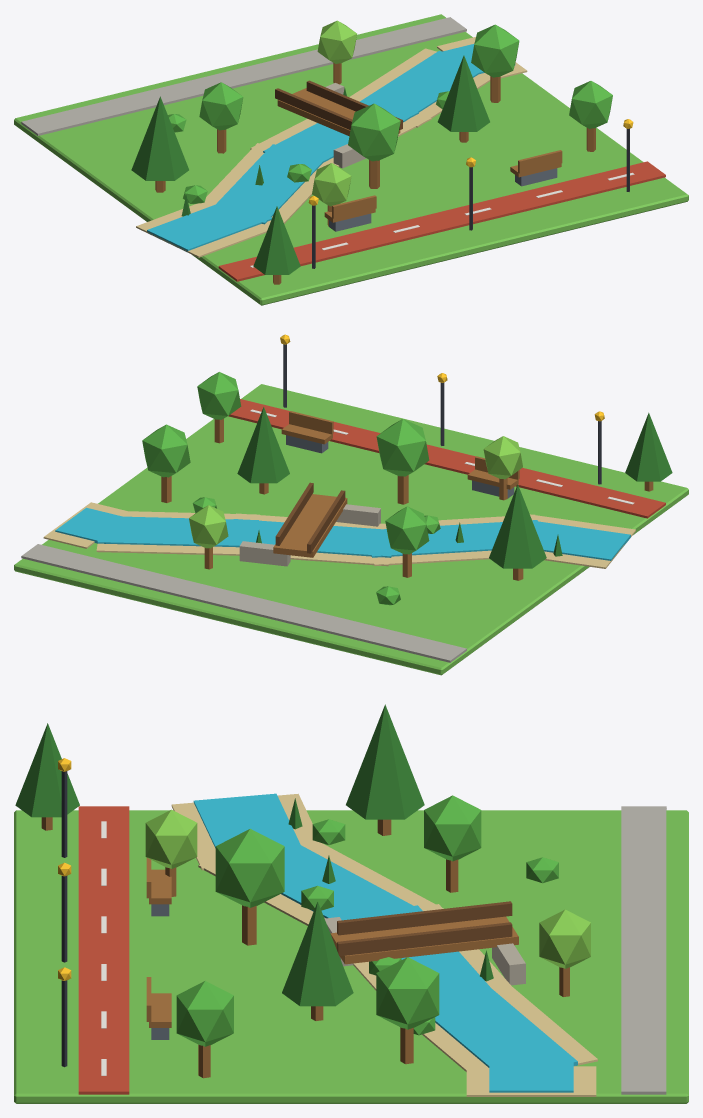
Rendered from linear_park.glb.
3 renders of one model, top to bottom at view 1: azimuth 30°, elevation 25°; view 2: azimuth 150°, elevation 25°; view 3: azimuth 270°, elevation 25°, orthographic. The views are drawn at different scales.
Parts seen in each view (by area): view 1: corpo; view 2: corpo; view 3: corpo.
Part boxes in pixels (<box>): corpo: <box>14,14,688,305</box>; corpo: <box>14,334,688,675</box>; corpo: <box>14,704,688,1103</box>.
Size of the model in its own units: 6.33 by 1.37 by 6.
